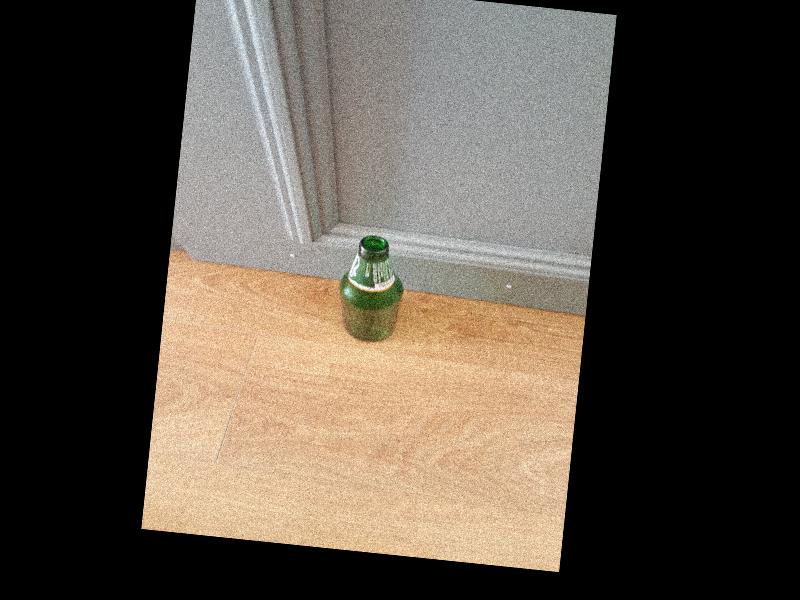Beer: (334, 233, 408, 345)
